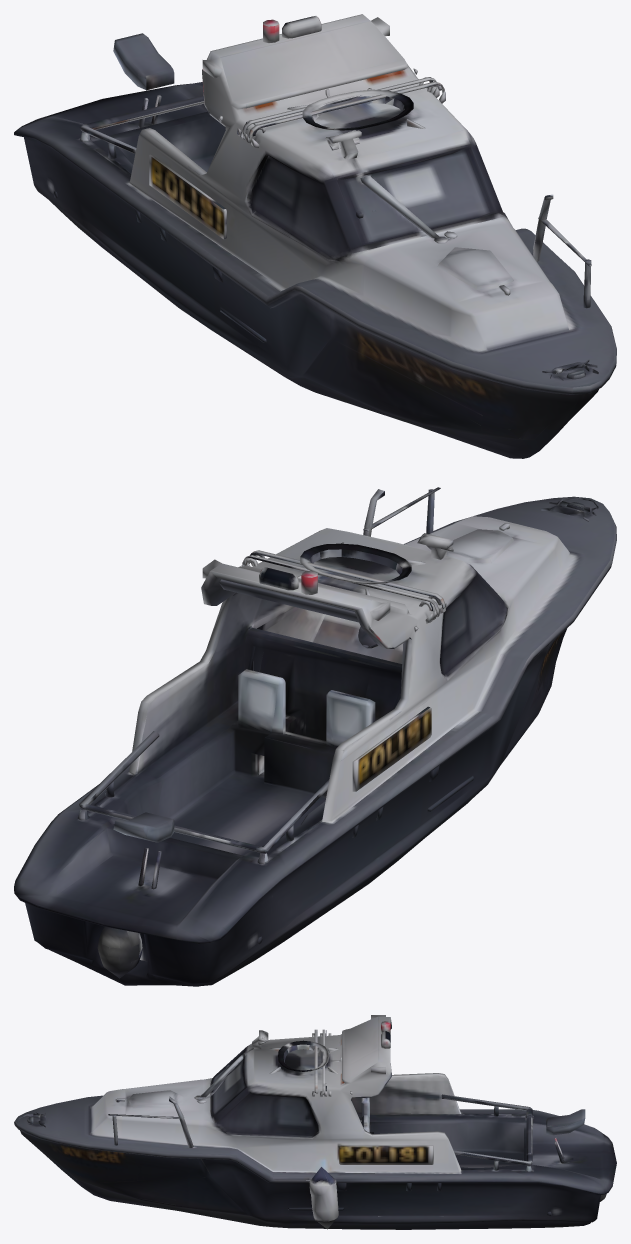
File: kapal_polisi_anim_1.glb
3 renders of one model, top to bottom at view 1: azimuth 30°, elevation 25°; view 2: azimuth 150°, elevation 25°; view 3: azimuth 270°, elevation 25°, orthographic. The views are drawn at different scales.
Visible parts, largest first — view 1: kapal; view 2: kapal; view 3: kapal.
Boxes of the visible parts, x1,y1,x2,y2 form: kapal: [14, 14, 616, 458]; kapal: [14, 487, 616, 986]; kapal: [14, 1015, 616, 1229].
Bounding box in the file's own units: 0.3042 × 0.3391 × 1.
1 material, 1 textured.
